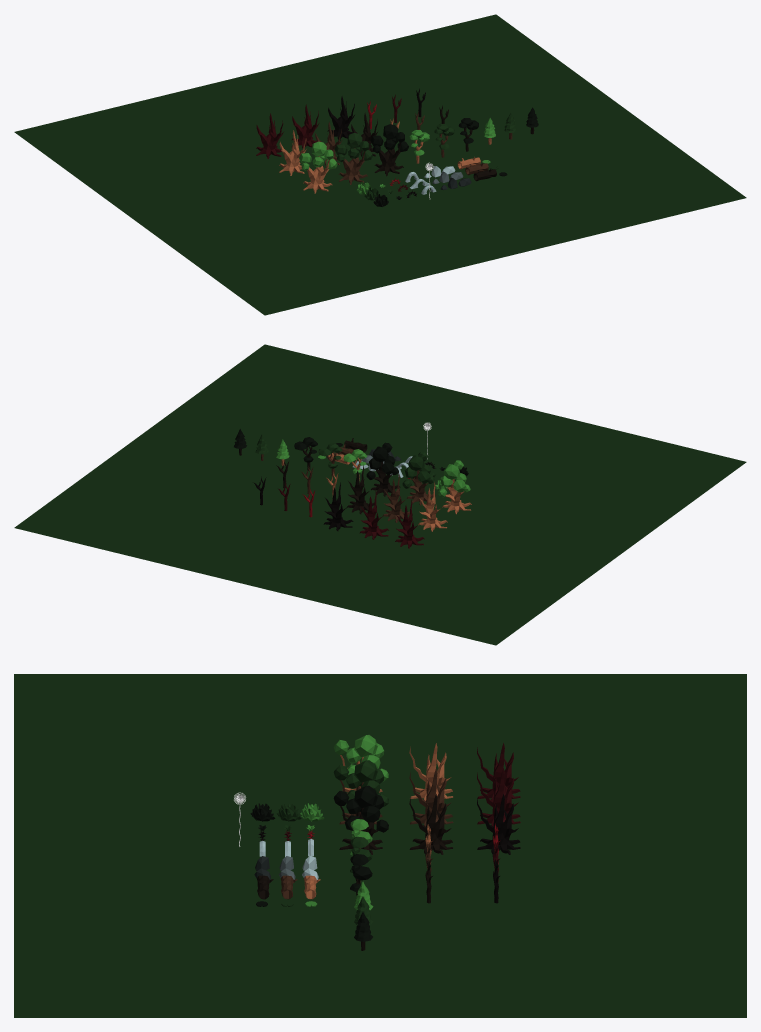
The model's file is Dandelion_Pin_Ombre.FBX.
3 renders of one model, top to bottom at view 1: azimuth 30°, elevation 25°; view 2: azimuth 150°, elevation 25°; view 3: azimuth 270°, elevation 25°, orthographic. The views are drawn at different scales.
Parts seen in each view (by area): view 1: Plane001, Cylinder058, Cylinder059, Cylinder060, Cylinder071, Cylinder061, Cylinder069, Cylinder070; view 2: Plane001, Cylinder058, Cylinder059, Cylinder060, Cylinder069, Cylinder070, Cylinder061, Cylinder071, Cylinder062, Cylinder063; view 3: Plane001, Cylinder060, Cylinder059, Cylinder058, Cylinder063, Cylinder070, Cylinder062, Cylinder069, Cylinder061, Cylinder071.
Part boxes in pixels (bbox=[...]): Plane001: bbox=[14, 14, 746, 315]; Cylinder058: bbox=[299, 141, 337, 193]; Cylinder059: bbox=[334, 133, 373, 184]; Cylinder060: bbox=[370, 124, 408, 176]; Cylinder071: bbox=[256, 113, 283, 158]; Cylinder061: bbox=[279, 130, 306, 175]; Cylinder069: bbox=[291, 104, 319, 148]; Cylinder070: bbox=[327, 96, 354, 140]; Plane001: bbox=[14, 344, 746, 645]; Cylinder058: bbox=[438, 460, 471, 514]; Cylinder059: bbox=[402, 451, 436, 505]; Cylinder060: bbox=[366, 442, 400, 496]; Cylinder069: bbox=[359, 490, 388, 539]; Cylinder070: bbox=[323, 482, 353, 531]; Cylinder061: bbox=[418, 482, 447, 531]; Cylinder071: bbox=[395, 499, 424, 548]; Cylinder062: bbox=[383, 472, 412, 522]; Cylinder063: bbox=[346, 465, 374, 514]; Plane001: bbox=[14, 674, 746, 1017]; Cylinder060: bbox=[333, 785, 388, 854]; Cylinder059: bbox=[333, 760, 388, 824]; Cylinder058: bbox=[333, 735, 388, 792]; Cylinder063: bbox=[409, 794, 452, 856]; Cylinder070: bbox=[477, 794, 520, 856]; Cylinder062: bbox=[409, 768, 453, 826]; Cylinder069: bbox=[477, 768, 520, 826]; Cylinder061: bbox=[409, 743, 452, 800]; Cylinder071: bbox=[477, 743, 520, 800].
Size of the model in its own units: 19923 by 2022 by 17953.
